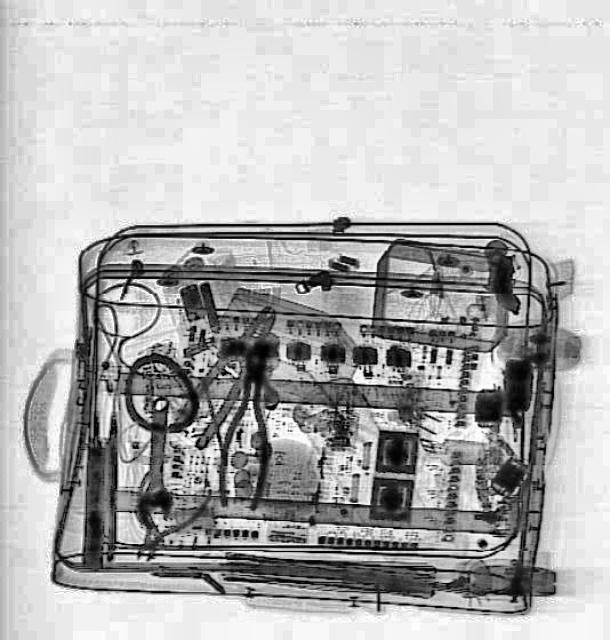Pliers: (166, 297, 294, 451), (214, 340, 284, 510), (112, 462, 214, 572)
Wrench: (130, 396, 180, 534)
